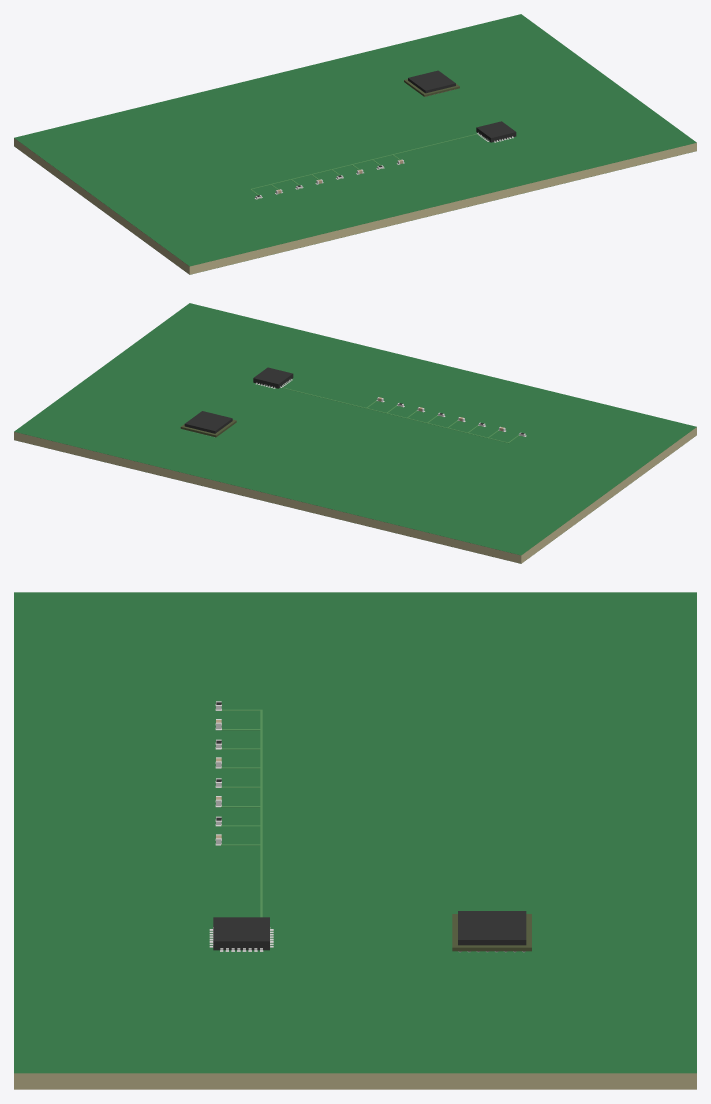
File: board_fixture.gltf
3 renders of one model, top to bottom at view 1: azimuth 30°, elevation 25°; view 2: azimuth 150°, elevation 25°; view 3: azimuth 270°, elevation 25°, orthographic. The views are drawn at different scales.
Parts seen in each view (by area): view 1: mask_top, fr4, bga_mold, qfn_body; view 2: mask_top, fr4, bga_mold, qfn_body; view 3: mask_top, fr4, bga_mold, qfn_body, bga_substrate.
Part boxes in pixels (box(x1,y1,x2,y2)): mask_top: box(14, 14, 696, 266); fr4: box(14, 138, 696, 274); bga_mold: box(408, 70, 455, 93); qfn_body: box(476, 121, 516, 142); mask_top: box(14, 303, 696, 555); fr4: box(14, 427, 696, 563); bga_mold: box(184, 411, 232, 433); qfn_body: box(253, 367, 293, 388); mask_top: box(14, 592, 696, 1073); fr4: box(14, 1073, 696, 1089); bga_mold: box(458, 911, 526, 945); qfn_body: box(213, 917, 269, 950); bga_substrate: box(452, 914, 531, 951).
Size of the model in its own units: 0.1 by 0.00286 by 0.06.
